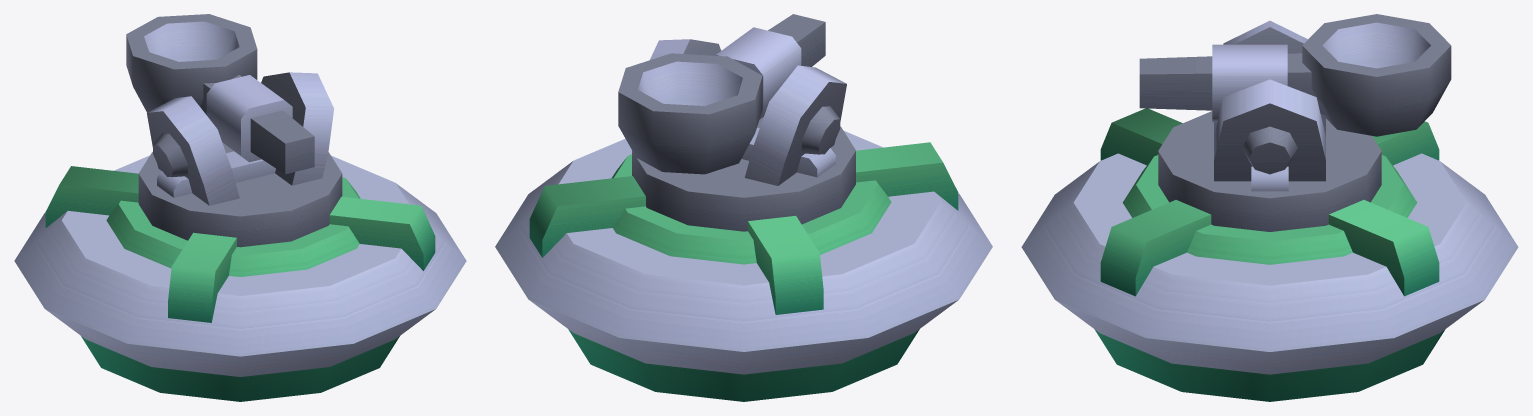
Rendered from enemy-ufo-b-weapon.glb.
The picture shows the model from 3 angles, left to right: view 1: azimuth 30°, elevation 25°; view 2: azimuth 150°, elevation 25°; view 3: azimuth 270°, elevation 25°; orthographic projection. The views are drawn at different scales.
Visible parts, largest first — view 1: enemy-ufo-b-weapon, catapult; view 2: enemy-ufo-b-weapon, catapult; view 3: enemy-ufo-b-weapon, catapult.
Part boxes in pixels (x1,y1,x2,y2): enemy-ufo-b-weapon: [14, 72, 466, 401]; catapult: [126, 14, 314, 174]; enemy-ufo-b-weapon: [495, 39, 992, 401]; catapult: [618, 14, 825, 174]; enemy-ufo-b-weapon: [1021, 20, 1518, 401]; catapult: [1139, 14, 1451, 136].
Size of the model in its own units: 0.9994 by 0.6256 by 1.
Materials: 1 (1 with a texture image).
